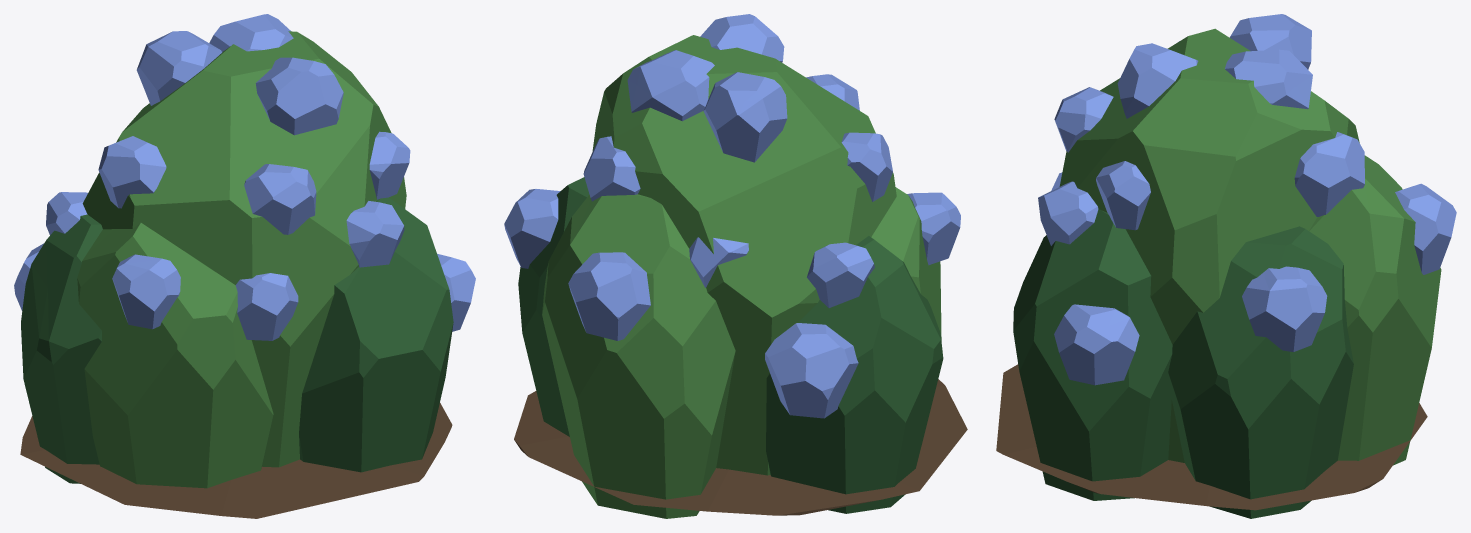
Rendered from hydrangea_blue.glb.
3 views of the same model, side by side, from view 1: azimuth 30°, elevation 25°; view 2: azimuth 150°, elevation 25°; view 3: azimuth 270°, elevation 25° (orthographic). The views are drawn at different scales.
Parts seen in each view (by area): view 1: leaves-0, leaves-1, leaves-3, leaves-4, soil, flower-7, flower-8, flower-12, flower-6, flower-14, flower-2, flower-3 (+5 smaller); view 2: leaves-0, leaves-2, leaves-4, soil, flower-0, flower-6, flower-4, leaves-5, flower-15, leaves-1, flower-5, flower-9 (+6 smaller); view 3: leaves-0, leaves-5, leaves-3, leaves-2, soil, flower-9, flower-11, flower-13, flower-15, flower-7, flower-4, flower-10 (+3 smaller).
Part boxes in pixels (left/top/right/bottom): leaves-0: left=82, top=31, right=406, bottom=467; leaves-1: left=77, top=223, right=273, bottom=488; leaves-3: left=299, top=197, right=453, bottom=472; leaves-4: left=21, top=214, right=102, bottom=483; soil: left=20, top=403, right=452, bottom=518; flower-7: left=255, top=57, right=343, bottom=135; flower-8: left=112, top=254, right=180, bottom=329; flower-12: left=244, top=164, right=316, bottom=234; flower-6: left=136, top=31, right=222, bottom=105; flower-14: left=235, top=273, right=298, bottom=340; flower-2: left=98, top=136, right=166, bottom=208; flower-3: left=346, top=201, right=404, bottom=267; leaves-0: left=592, top=35, right=896, bottom=475; leaves-2: left=542, top=194, right=735, bottom=518; leaves-4: left=766, top=236, right=943, bottom=513; soil: left=514, top=379, right=967, bottom=515; flower-0: left=765, top=323, right=858, bottom=418; flower-6: left=703, top=72, right=787, bottom=162; flower-4: left=568, top=252, right=650, bottom=340; leaves-5: left=518, top=177, right=589, bottom=436; flower-15: left=627, top=50, right=714, bottom=121; leaves-1: left=871, top=187, right=941, bottom=340; flower-5: left=807, top=242, right=874, bottom=307; flower-9: left=504, top=189, right=560, bottom=268; leaves-0: left=1059, top=28, right=1359, bottom=462; leaves-5: left=1168, top=226, right=1353, bottom=518; leaves-3: left=1013, top=209, right=1172, bottom=500; leaves-2: left=1309, top=155, right=1441, bottom=465; soil: left=996, top=364, right=1427, bottom=510; flower-9: left=1242, top=266, right=1327, bottom=351; flower-11: left=1054, top=304, right=1139, bottom=385; flower-13: left=1294, top=132, right=1364, bottom=216; flower-15: left=1225, top=49, right=1312, bottom=109; flower-7: left=1117, top=43, right=1198, bottom=118; flower-4: left=1395, top=183, right=1456, bottom=274; flower-10: left=1096, top=161, right=1150, bottom=230.
Size of the model in its own units: 1.18 by 1.14 by 1.18.
